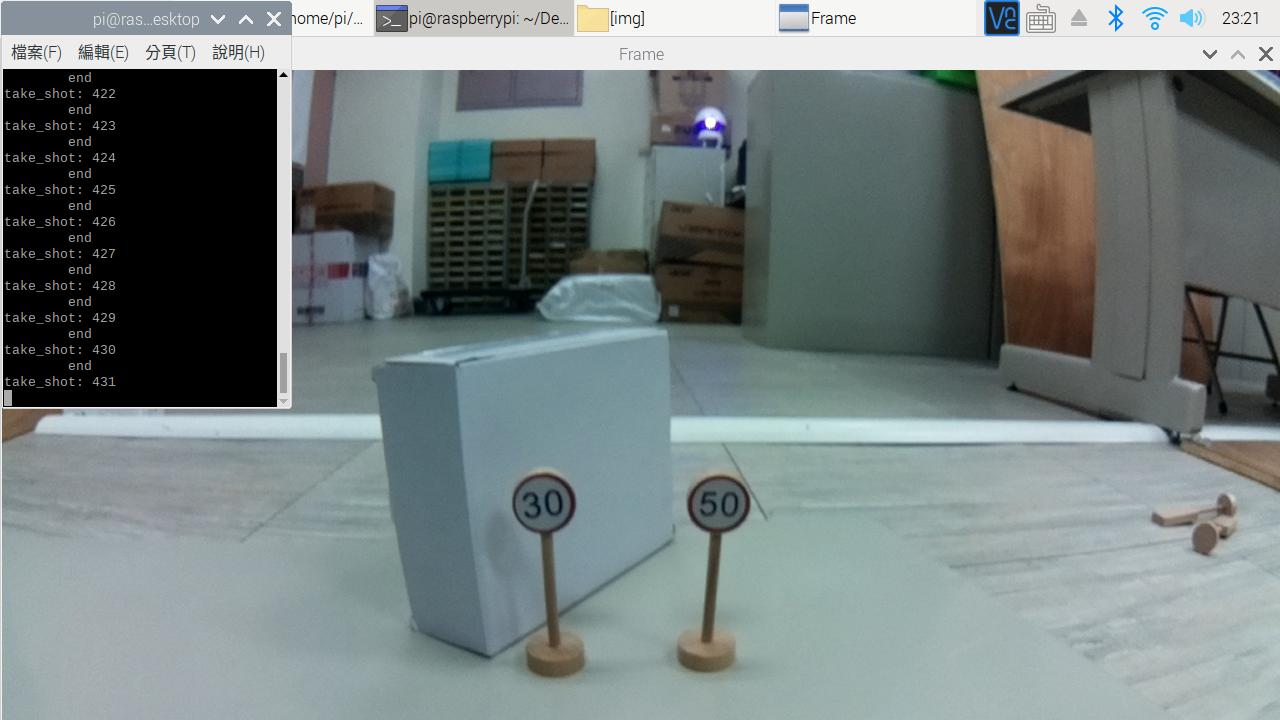Speed30: (499, 466, 589, 549)
Speed50: (668, 468, 768, 552)
